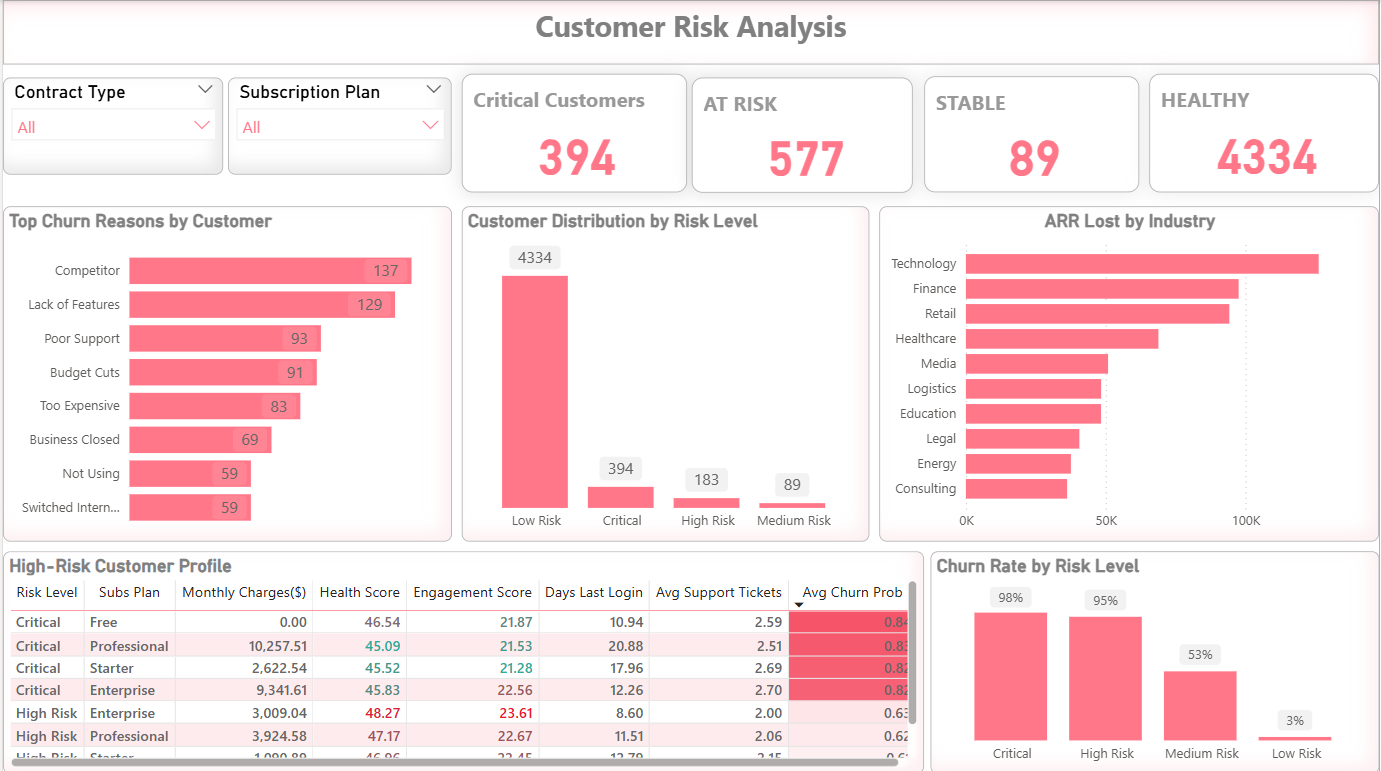

What the dashboard file says about the page in this screenshot:
{"tool":"powerbi","page":{"name":"Risk Analysis","canvas":[1280,720],"ordinal":1},"visuals":[{"type":"textbox","box":[0,0,1280.2,59.7],"z":0},{"type":"card","title":"Critical Customers","fields":{"Values":["saas_churn_full_for_powerbi.Critical Customers"]},"box":[426.7,68.6,209.3,110.5],"z":1000},{"type":"card","title":"AT RISK","fields":{"Values":["saas_churn_full_for_powerbi.At Risk Customers"]},"box":[640.7,72.1,205.8,107],"z":2000},{"type":"card","title":"STABLE","fields":{"Values":["saas_churn_full_for_powerbi.Stable Customers"]},"box":[857,70.9,200,108.1],"z":3000},{"type":"card","title":"HEALTHY","fields":{"Values":["saas_churn_full_for_powerbi.Healthy Customers"]},"box":[1066.3,68.6,214,110.5],"z":4000},{"type":"clusteredBarChart","title":"ARR Lost by Industry","fields":{"Category":["saas_churn_full_for_powerbi.industry"],"Y":["saas_churn_full_for_powerbi.ARR"]},"box":[815.1,191.9,465.1,311.6],"z":5000},{"type":"clusteredBarChart","title":"Top Churn Reasons by Customer","fields":{"Category":["saas_churn_full_for_powerbi.churn_reason"],"Y":["CountNonNull(saas_churn_full_for_powerbi.customer_id)"]},"box":[0,191.9,417.4,311.6],"z":6000},{"type":"tableEx","title":"High-Risk Customer Profile","fields":{"Values":["saas_churn_full_for_powerbi.predicted_risk_level","saas_churn_full_for_powerbi.subscription_plan","Sum(saas_churn_full_for_powerbi.monthly_charges_usd)","Avg(saas_churn_full_for_powerbi.health_score)","Avg(saas_churn_full_for_powerbi.engagement_score)","Avg(saas_churn_full_for_powerbi.days_since_last_login)","Avg(saas_churn_full_for_powerbi.support_tickets_90d)","Avg(saas_churn_full_for_powerbi.churn_probability)"]},"box":[0,512.8,857,207],"z":7000},{"type":"clusteredColumnChart","title":"Customer Distribution by Risk Level","fields":{"Category":["saas_churn_full_for_powerbi.predicted_risk_level"],"Y":["CountNonNull(saas_churn_full_for_powerbi.customer_id)"]},"box":[426.7,191.9,379.1,311.6],"z":8000},{"type":"clusteredColumnChart","title":"Churn Rate by Risk Level","fields":{"Category":["saas_churn_full_for_powerbi.predicted_risk_level"],"Y":["saas_churn_full_for_powerbi.Churn Rate by Risk"]},"box":[862.8,512.8,417.4,207],"z":9000},{"type":"slicer","fields":{"Values":["saas_churn_full_for_powerbi.subscription_plan"]},"box":[209.3,72.1,208.1,90.7],"z":10000},{"type":"slicer","fields":{"Values":["saas_churn_full_for_powerbi.contract_type"]},"box":[0,72.1,205,90.7],"z":11000}]}

Visuals, with their boxes in screenshot pixels (x1, y1, x2, y2), scaled from the page's 1280x720 canvas onto the 1381x771 screenshot:
textbox: Rect(0, 0, 1380, 64)
"Critical Customers" card: Rect(460, 73, 686, 192)
"AT RISK" card: Rect(691, 77, 913, 192)
"STABLE" card: Rect(925, 76, 1140, 192)
"HEALTHY" card: Rect(1150, 73, 1380, 192)
"ARR Lost by Industry" clusteredBarChart: Rect(879, 205, 1380, 539)
"Top Churn Reasons by Customer" clusteredBarChart: Rect(0, 205, 450, 539)
"High-Risk Customer Profile" tableEx: Rect(0, 549, 925, 770)
"Customer Distribution by Risk Level" clusteredColumnChart: Rect(460, 205, 869, 539)
"Churn Rate by Risk Level" clusteredColumnChart: Rect(931, 549, 1380, 770)
slicer - saas_churn_full_for_powerbi.subscription_plan: Rect(226, 77, 450, 174)
slicer - saas_churn_full_for_powerbi.contract_type: Rect(0, 77, 221, 174)
